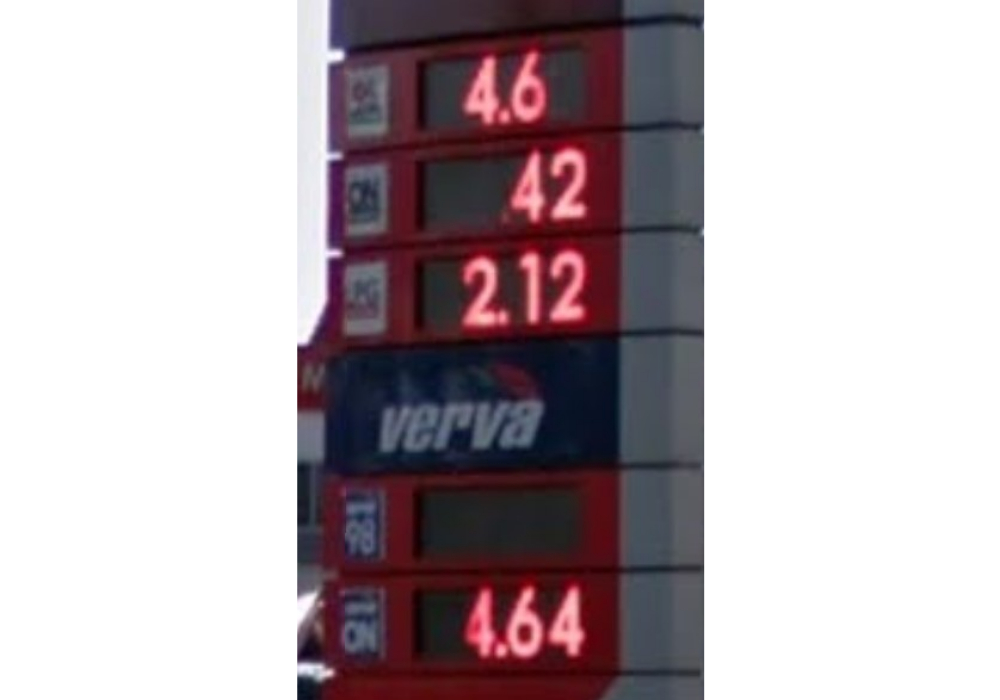ON: (337, 159, 388, 237), (336, 586, 387, 660)
PB98: (337, 485, 386, 563)
